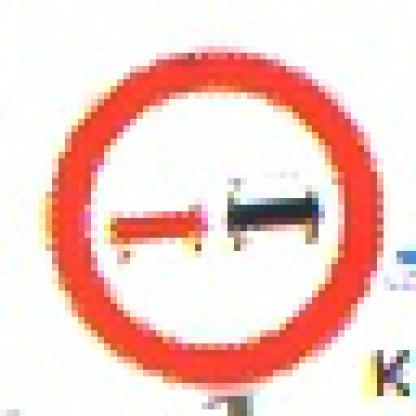No Overtaking: (40, 41, 384, 384)
